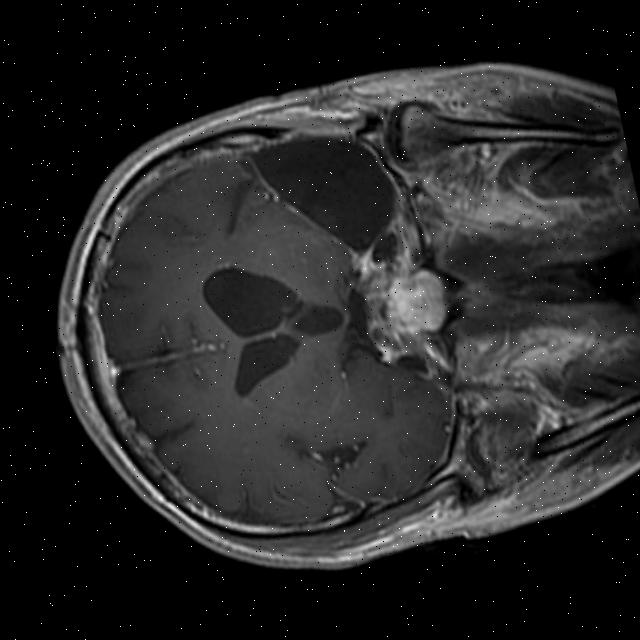Glioma: (240, 121, 409, 271)
Pituitary: (383, 262, 456, 339)
